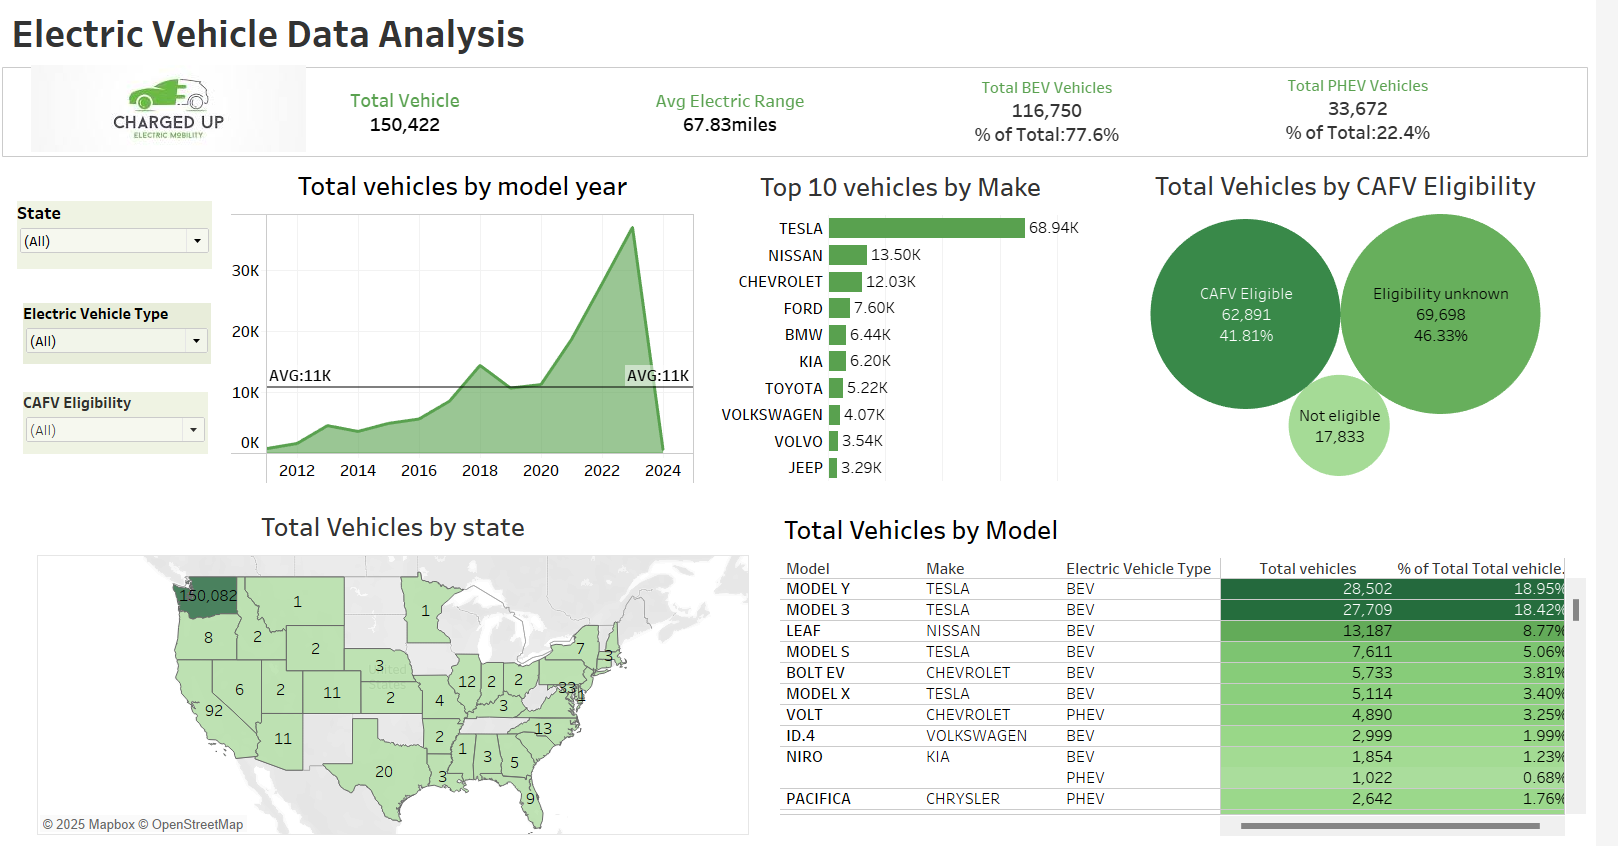

What the dashboard file says about the page in this screenshot:
{"tool":"tableau","page":{"name":"Dashboard 1","canvas":[1600,900],"ordinal":0},"visuals":[{"type":"title","box":[8,8,1584,61]},{"type":"image","param":"C:/Users/mithu/OneDrive/Desktop/data science complete/Tableau/Electric Vehicle D","box":[14,72,316,87]},{"type":"worksheet","title":"Total PHEV Vehicles","mark":"Automatic","box":[1189,82,346,70]},{"type":"worksheet","title":"Total Bev Vehicles","mark":"Automatic","box":[876,83,350,72]},{"type":"worksheet","title":"Total Vehicles","mark":"Automatic","box":[237,84,344,69]},{"type":"worksheet","title":"avg range","mark":"Automatic","box":[579,88,309,63]},{"type":"worksheet","title":"Total vehicles by model year","mark":"Automatic","rows":["Calculation_716916798580686848","Calculation_716916798580686848"],"cols":["Model Year"],"box":[235,171,463,320]},{"type":"worksheet","title":"Total Vehicles by CAFV Eligibility","mark":"Circle","box":[1104,171,491,312]},{"type":"worksheet","title":"Top 10 Vehicles by Make","mark":"Automatic","rows":["Make"],"cols":["Calculation_716916798580686848"],"box":[712,172,385,316]},{"type":"filter","title":"Top 10 Vehicles by Make","param":"[federated.1rb4tms1umcwh41euld5a1ia1k7p].[none:State:nk]","box":[21,208,195,68]},{"type":"filter","title":"Top 10 Vehicles by Make","param":"[federated.1rb4tms1umcwh41euld5a1ia1k7p].[none:Electric Vehicle Type:nk]","box":[27,310,188,61]},{"type":"filter","title":"Total Vehicles by CAFV Eligibility","param":"[federated.1rb4tms1umcwh41euld5a1ia1k7p].[none:Clean Alternative Fuel Vehicle (C","box":[27,399,185,62]},{"type":"worksheet","title":"Total Vehicles by state","mark":"Automatic","box":[41,512,712,330]},{"type":"worksheet","title":"Total Vehicles by Model","mark":"Square","rows":["Model","Make","Electric Vehicle Type"],"box":[784,515,806,328]}]}

Visuals, with their boxes on the page's 1600x900 design canvas (x1, y1, x2, y2). These are canvas units, not pixel positions in the 1618x846 screenshot, which may show the page scaled, cropped or inside an application window:
title: select_region(8, 8, 1592, 69)
image: select_region(14, 72, 330, 159)
"Total PHEV Vehicles" worksheet: select_region(1189, 82, 1535, 152)
"Total Bev Vehicles" worksheet: select_region(876, 83, 1226, 155)
"Total Vehicles" worksheet: select_region(237, 84, 581, 153)
"avg range" worksheet: select_region(579, 88, 888, 151)
"Total vehicles by model year" worksheet: select_region(235, 171, 698, 491)
"Total Vehicles by CAFV Eligibility" worksheet (Circle marks): select_region(1104, 171, 1595, 483)
"Top 10 Vehicles by Make" worksheet: select_region(712, 172, 1097, 488)
"Top 10 Vehicles by Make" filter: select_region(21, 208, 216, 276)
"Top 10 Vehicles by Make" filter: select_region(27, 310, 215, 371)
"Total Vehicles by CAFV Eligibility" filter: select_region(27, 399, 212, 461)
"Total Vehicles by state" worksheet: select_region(41, 512, 753, 842)
"Total Vehicles by Model" worksheet (Square marks): select_region(784, 515, 1590, 843)
